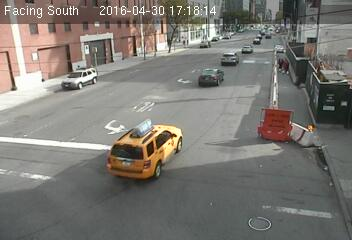neg: (1, 163, 42, 218), (145, 113, 184, 165), (297, 43, 336, 95), (87, 129, 122, 175), (211, 92, 244, 136), (46, 91, 78, 134), (239, 37, 270, 79), (293, 132, 321, 169), (50, 38, 77, 73), (248, 198, 272, 230), (158, 34, 181, 65), (189, 176, 204, 196)
